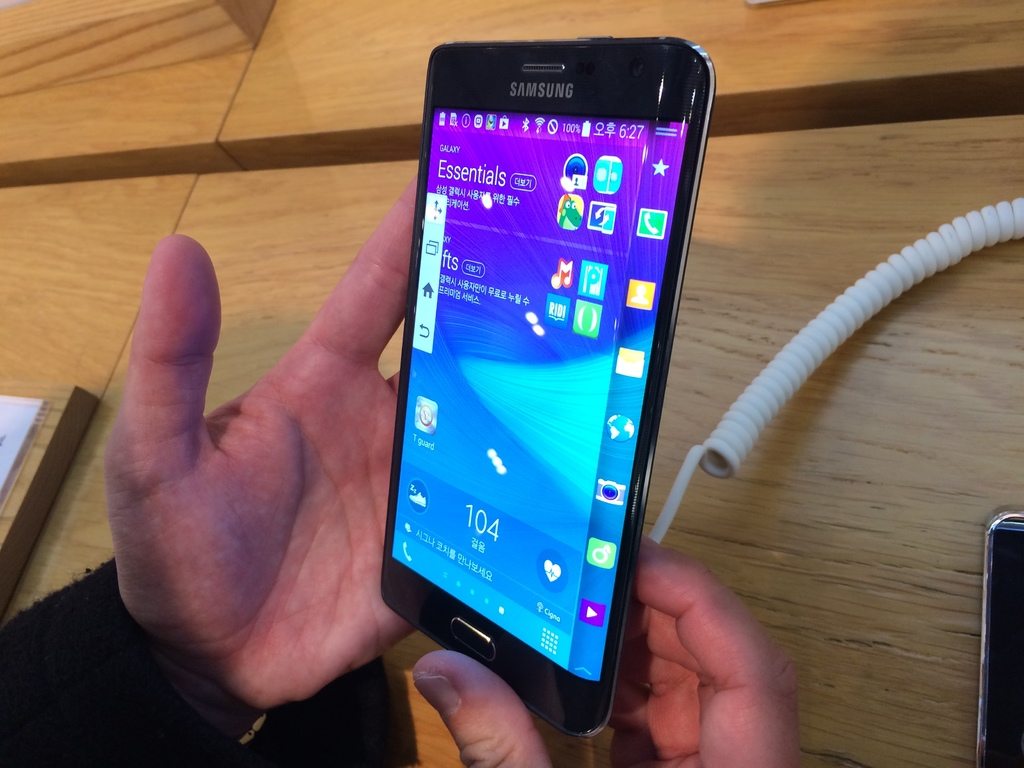Mobile-phone: (381, 21, 714, 710)
